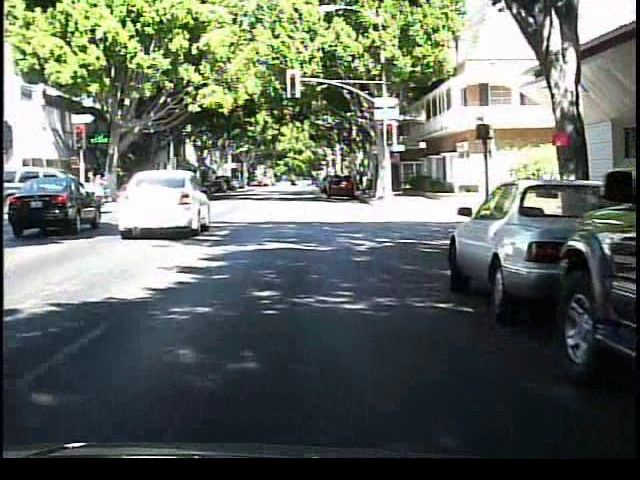person: (86, 163, 111, 207)
